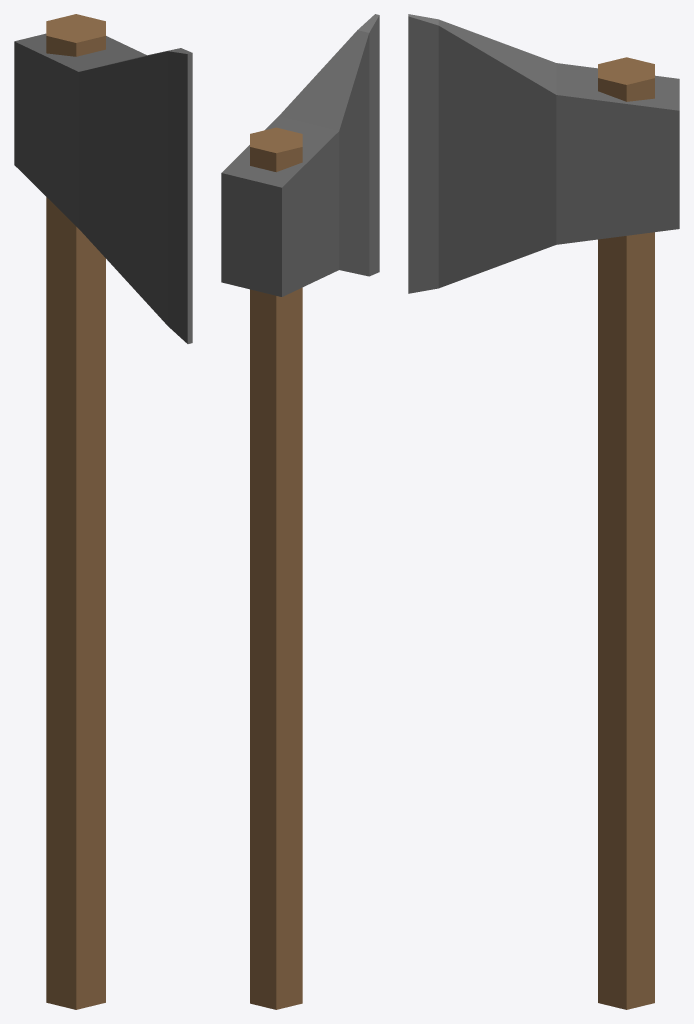
The model's file is Mesh_Props_Ax_01.FBX.
3 views of the same model, side by side, from view 1: azimuth 30°, elevation 25°; view 2: azimuth 150°, elevation 25°; view 3: azimuth 270°, elevation 25° (orthographic). The views are drawn at different scales.
Parts seen in each view (by area): view 1: Mesh_Props_Ax_01; view 2: Mesh_Props_Ax_01; view 3: Mesh_Props_Ax_01.
Boxes of the visible parts, <box> form: Mesh_Props_Ax_01: <box>14,14,192,1009</box>; Mesh_Props_Ax_01: <box>221,14,379,1009</box>; Mesh_Props_Ax_01: <box>408,14,679,1009</box>.
Size of what is drawn, in the model's own units: 4.23 by 15.21 by 60.65.
